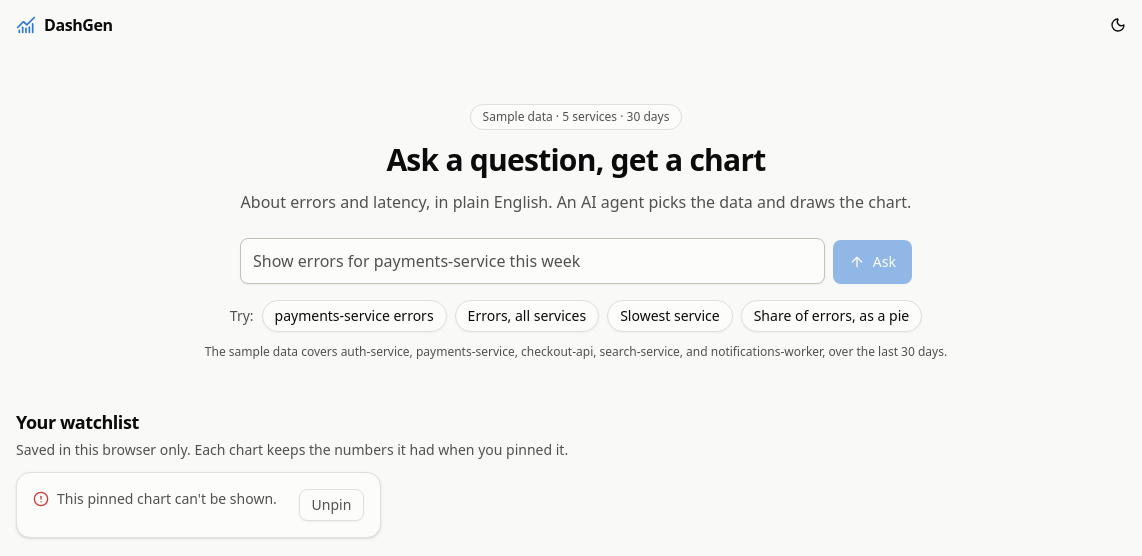
Test: the watchlist, when a pinned chart can't be shown › keeps the page, and offers to unpin it
expect the text "This pinned chart can't be shown." is shown: met, box x1=33 y1=489 x2=277 y2=509
expect the text box named "Your question" is shown: met, box x1=240 y1=238 x2=825 y2=284
Click the button "Unpin" at (332, 505), box x1=299 y1=489 x2=364 y2=521
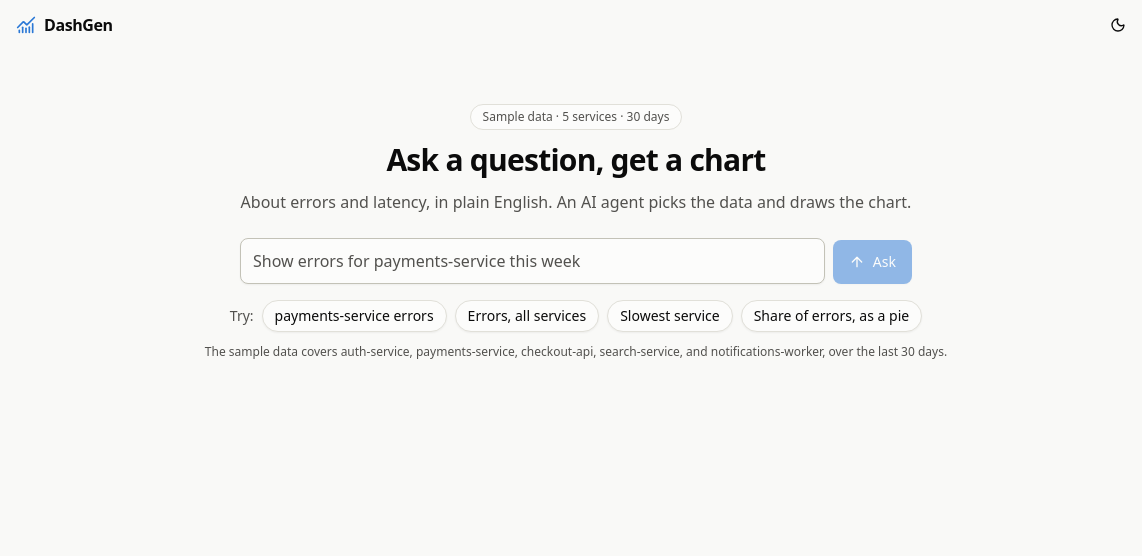
expect the text "This pinned chart can't be shown." is gone: met
